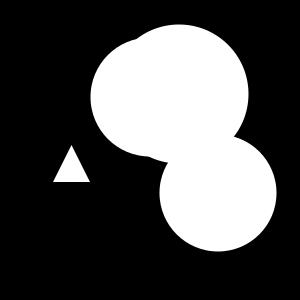rectangle: (110, 25, 248, 164), (90, 37, 210, 156), (160, 134, 276, 252), (100, 64, 146, 109)
triangle: (53, 145, 90, 182)
